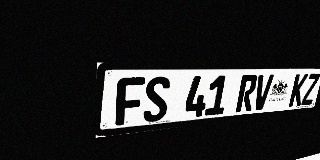1: (205, 75, 229, 116)
4: (184, 76, 210, 118)
F: (115, 77, 145, 126)
K: (288, 74, 308, 107)
R: (235, 75, 258, 112)
S: (143, 76, 171, 123)
V: (252, 74, 274, 111)
Z: (301, 74, 320, 105)
